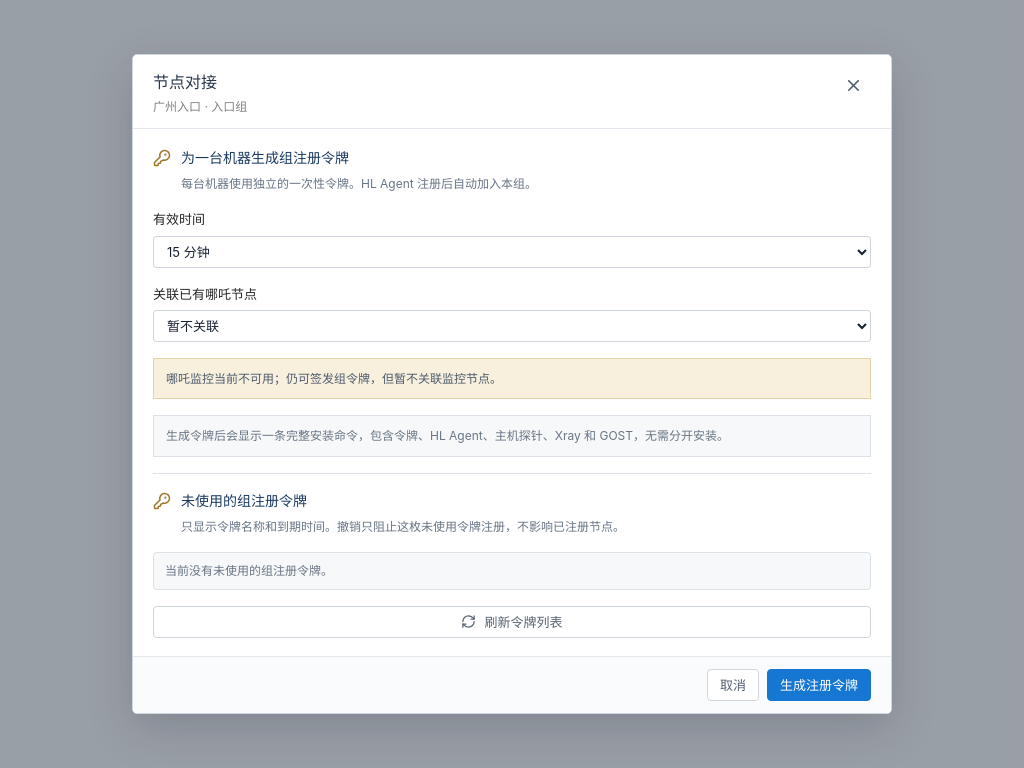
GroupIntegrationDialog › binds a newly issued enrollment token to the current device group
This screenshot has width=1024, height=768.
Click the button with class "button--primary" at (819, 685), box [767,669,871,701]
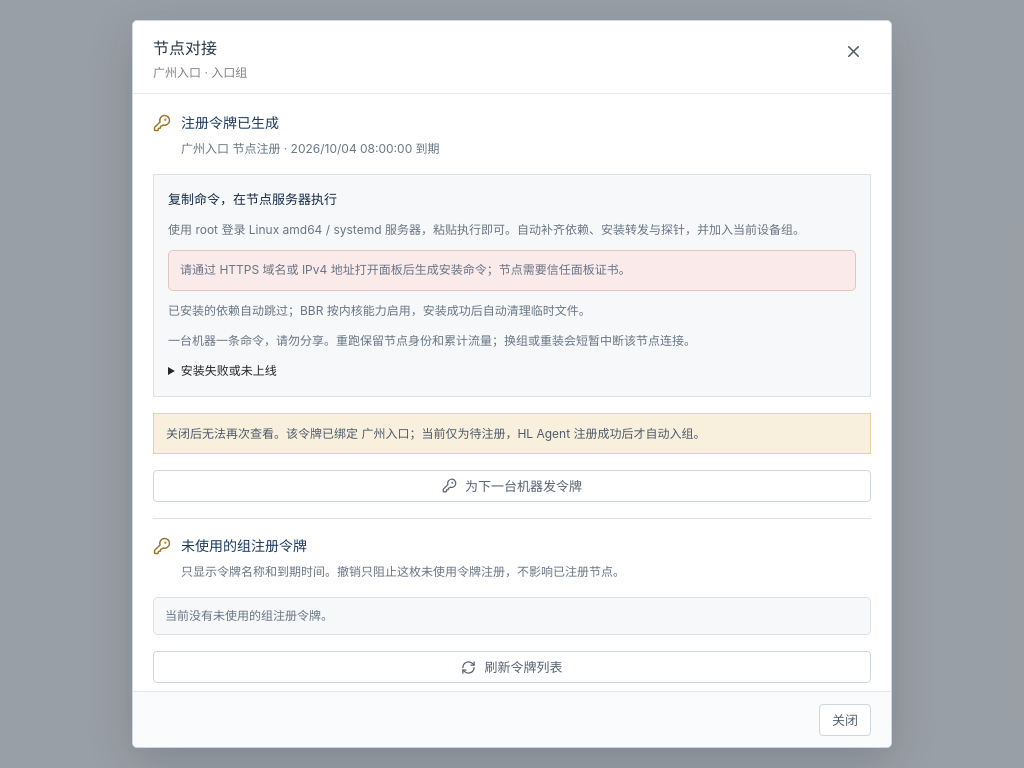
Expected: the text "已绑定 广州入口" is shown, [166,426,706,441]
